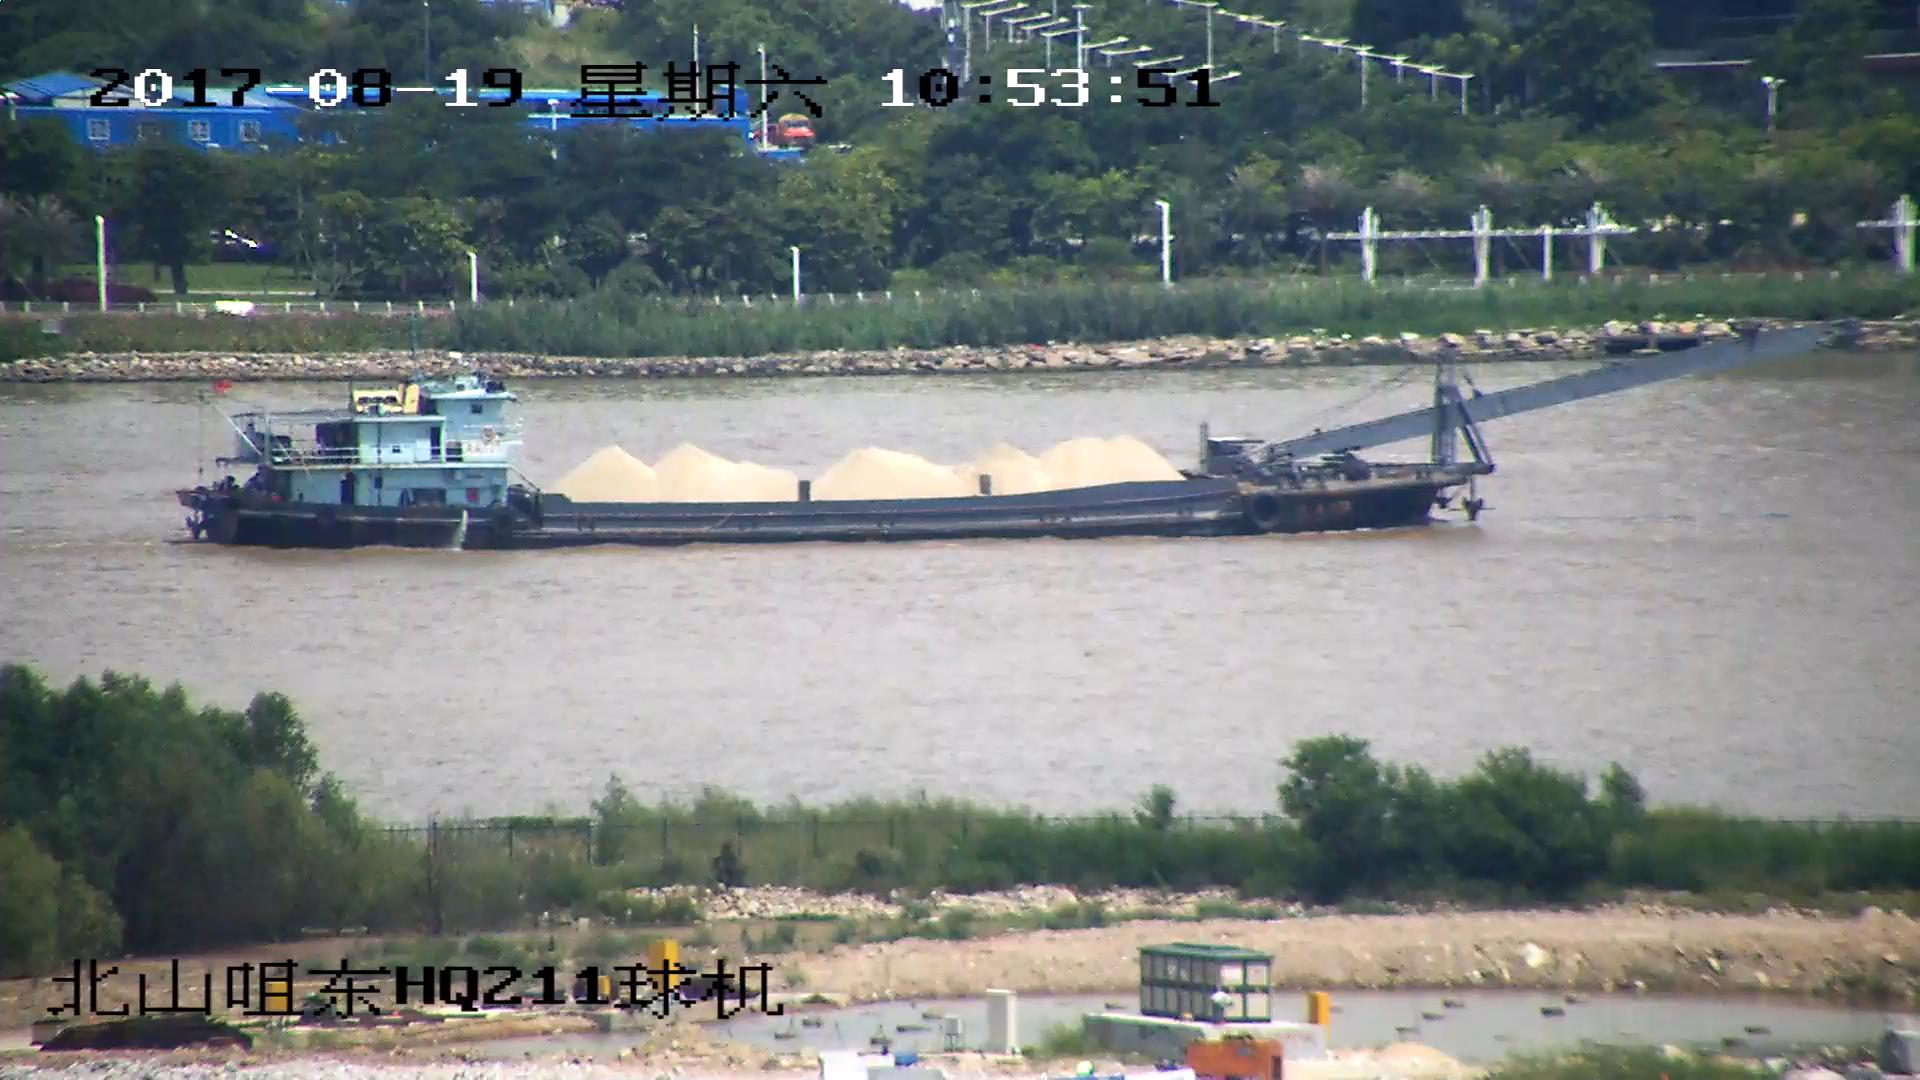ore carrier: (172, 317, 1851, 545)
